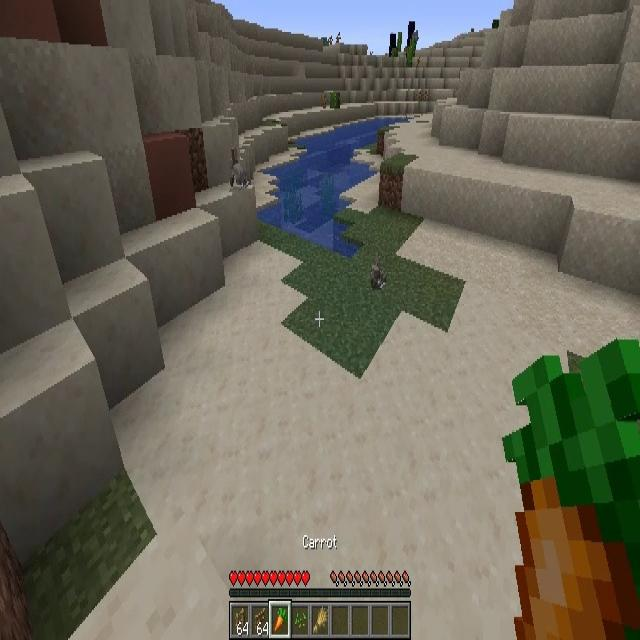rabbit: (229, 148, 250, 191), (370, 254, 386, 290)
